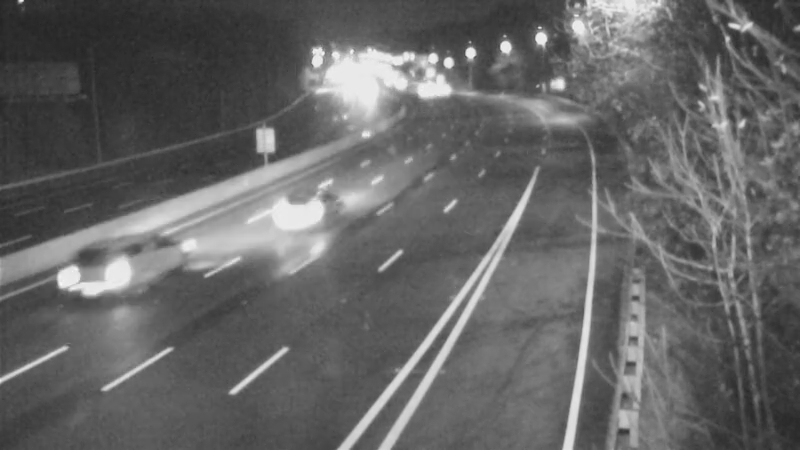vehicle: (257, 165, 337, 245), (51, 233, 131, 313)
